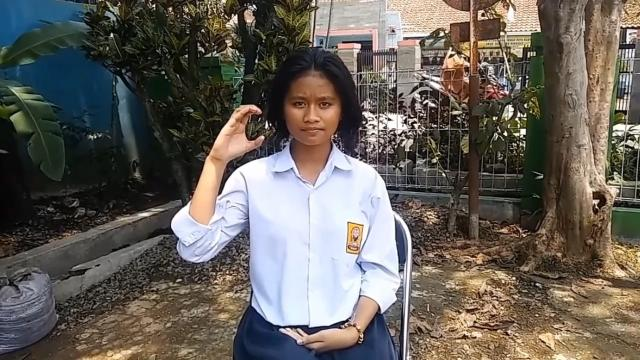C: (208, 103, 266, 165)
